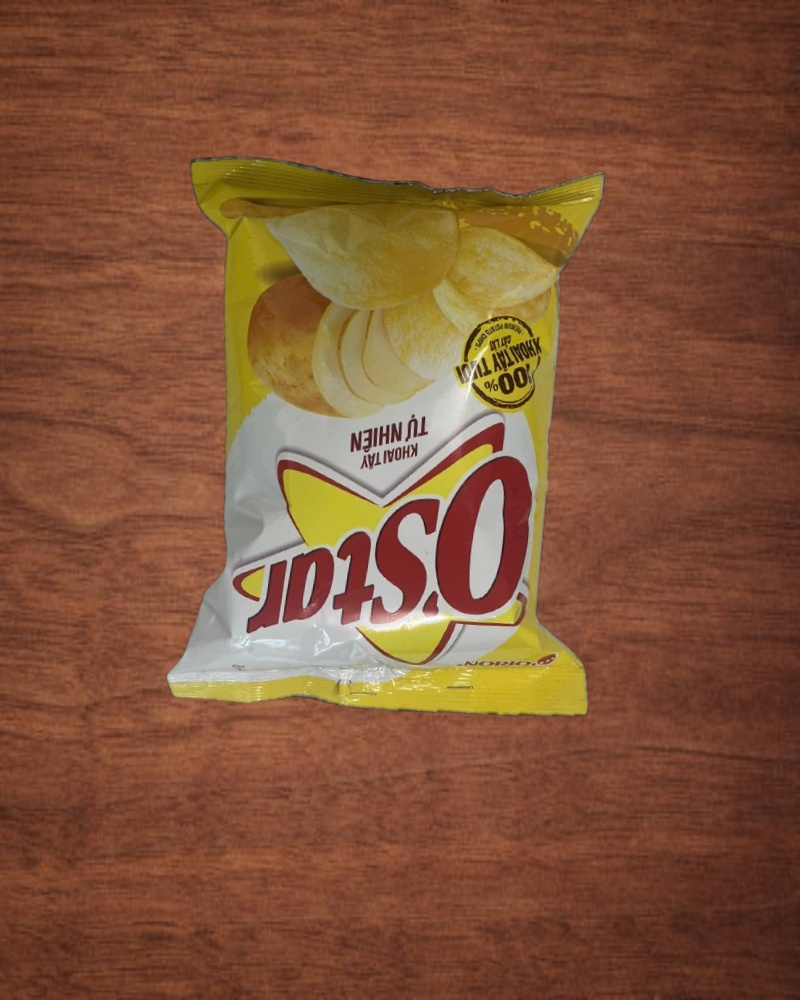Snack cua: (150, 143, 633, 727)
